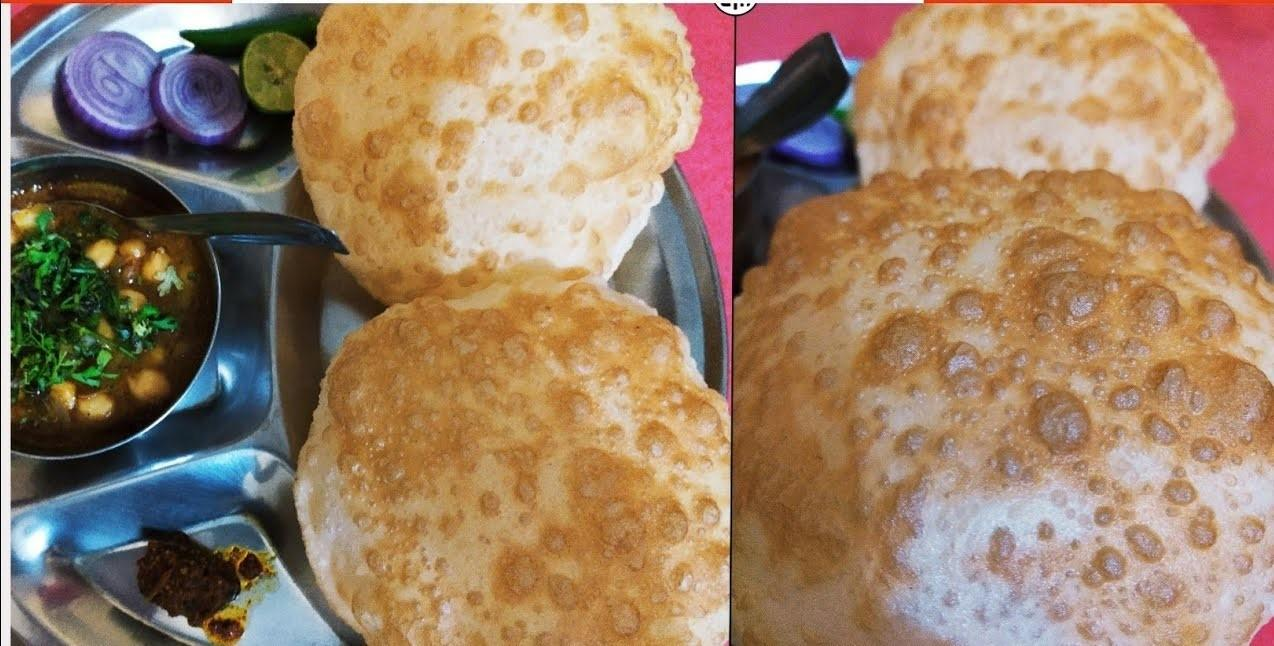Bhatura: (293, 2, 1274, 646)
